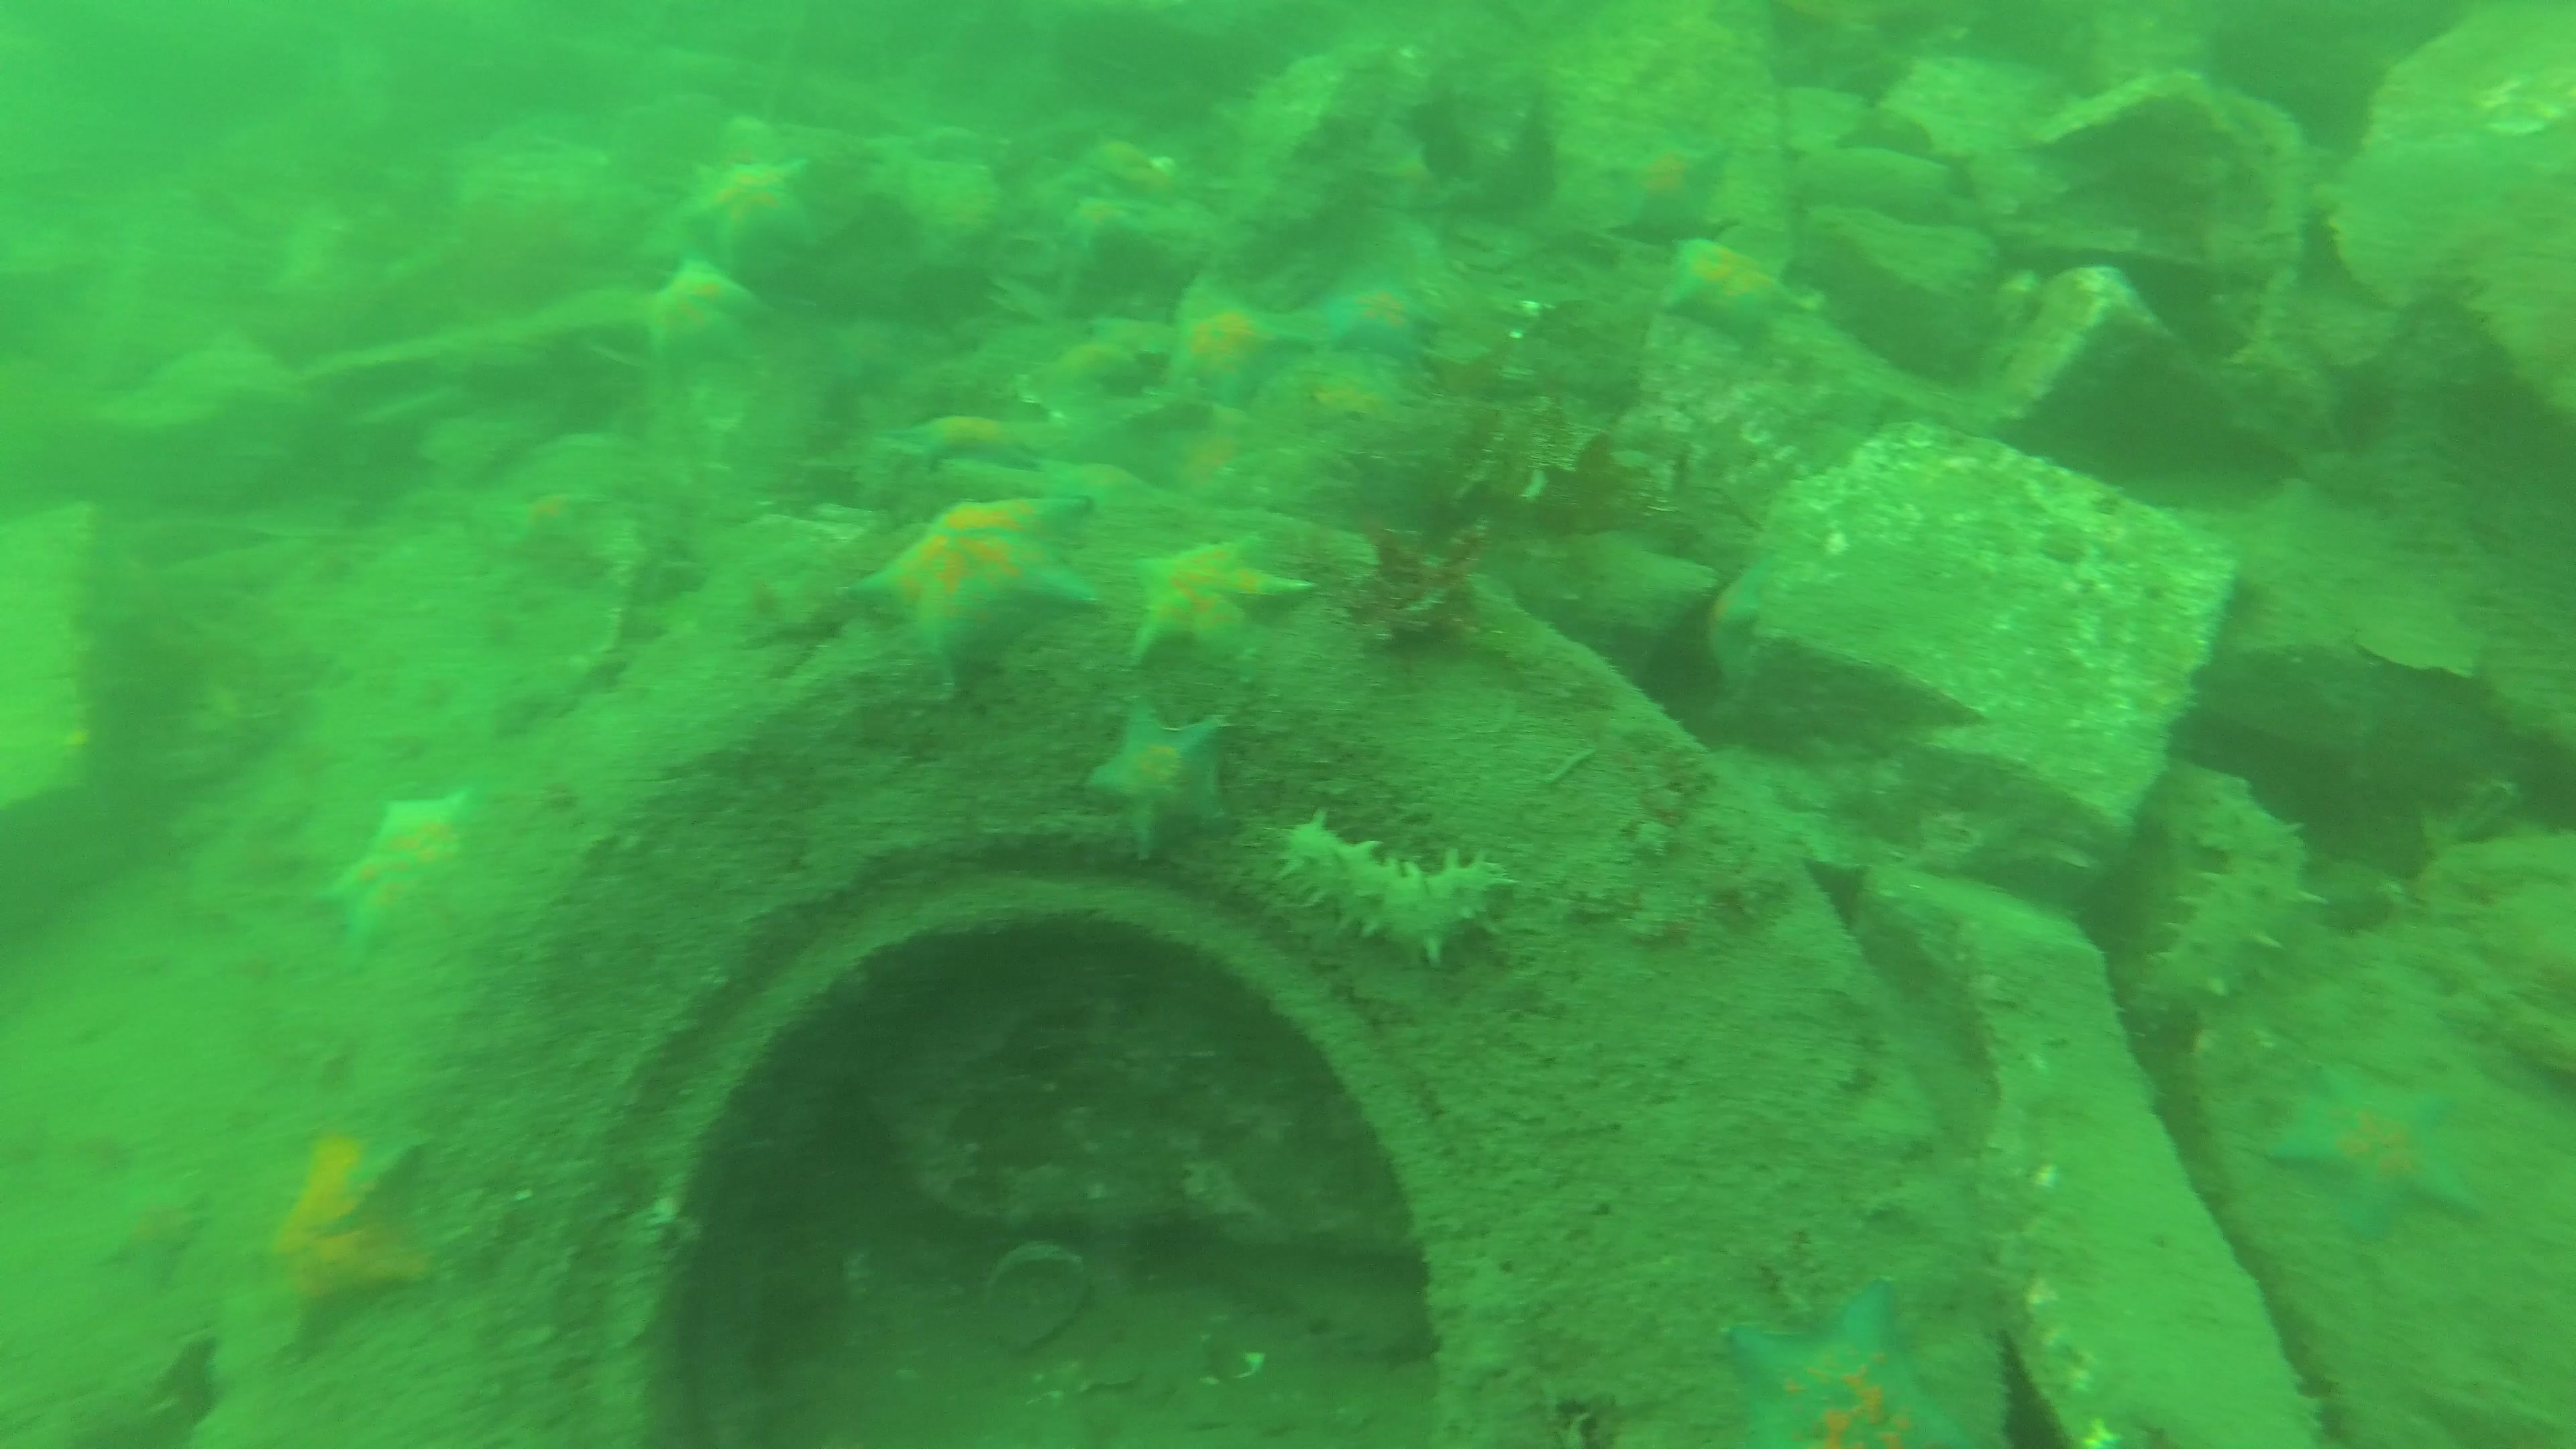holothurian: (1249, 800, 1527, 966), (2141, 778, 2332, 1017)
starfish: (241, 1115, 449, 1376), (837, 485, 1111, 671), (1704, 1270, 1980, 1449), (2254, 1051, 2498, 1251), (306, 784, 501, 962), (1131, 527, 1327, 669), (1077, 695, 1238, 860), (1652, 216, 1819, 357), (1594, 120, 1752, 237), (1166, 303, 1323, 416), (683, 154, 826, 272), (637, 272, 782, 389), (1019, 317, 1162, 409), (879, 405, 1054, 478), (1316, 271, 1449, 363), (490, 474, 619, 559), (1051, 191, 1161, 260)
